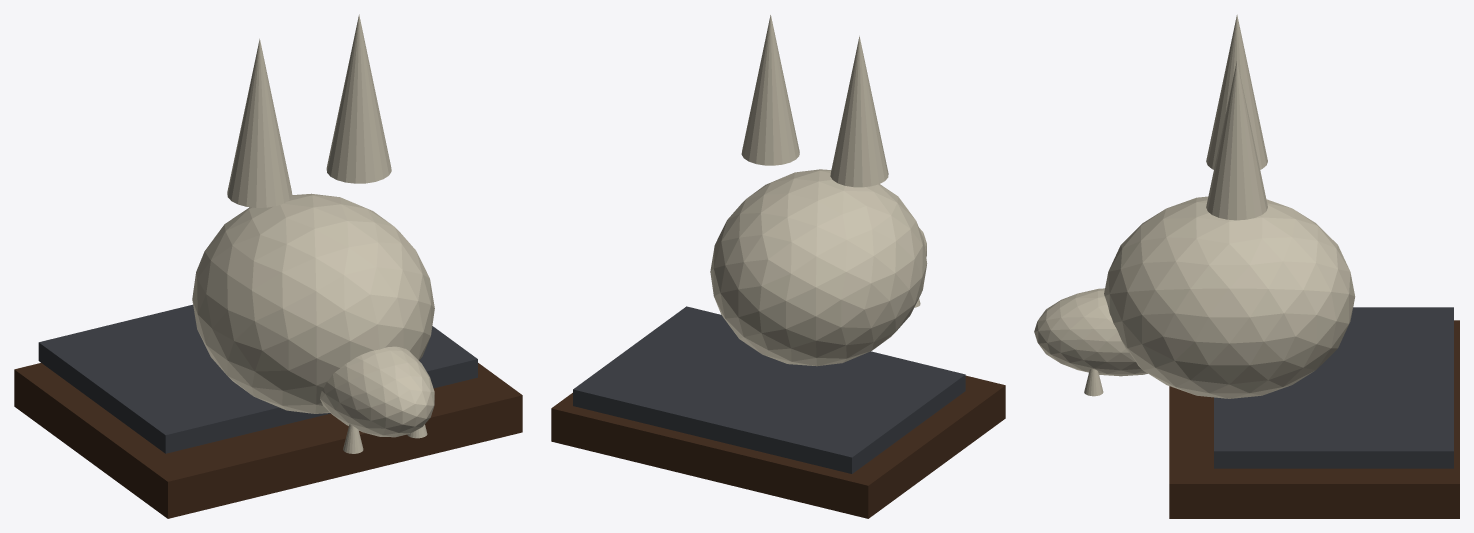
Rendered from MonsterHead_Trophy.obj.
3 renders of one model, left to right at view 1: azimuth 30°, elevation 25°; view 2: azimuth 150°, elevation 25°; view 3: azimuth 270°, elevation 25°, orthographic. The views are drawn at different scales.
Visible parts, largest first — view 1: Skull, Plaque, BackPlate, Snout, Horn_0.14, Horn_-0.14; view 2: BackPlate, Skull, Plaque, Horn_-0.14, Horn_0.14; view 3: Skull, BackPlate, Plaque, Snout, Horn_0.14, Horn_-0.14.
Boxes of the visible parts, x1,y1,x2,y2 form: Skull: (192, 193, 434, 413); Plaque: (14, 363, 522, 518); BackPlate: (38, 304, 477, 453); Snout: (320, 346, 434, 437); Horn_0.14: (326, 14, 391, 183); Horn_-0.14: (227, 38, 292, 207); BackPlate: (573, 306, 965, 473); Skull: (710, 169, 927, 366); Plaque: (551, 375, 1005, 518); Horn_-0.14: (830, 36, 888, 187); Horn_0.14: (741, 15, 799, 165); Skull: (1104, 196, 1355, 398); BackPlate: (1214, 307, 1453, 468); Plaque: (1169, 320, 1459, 518); Snout: (1034, 288, 1147, 376); Horn_0.14: (1206, 60, 1267, 220); Horn_-0.14: (1206, 14, 1267, 169).
Bounding box in the file's own units: 1 × 1.14 × 1.1.
